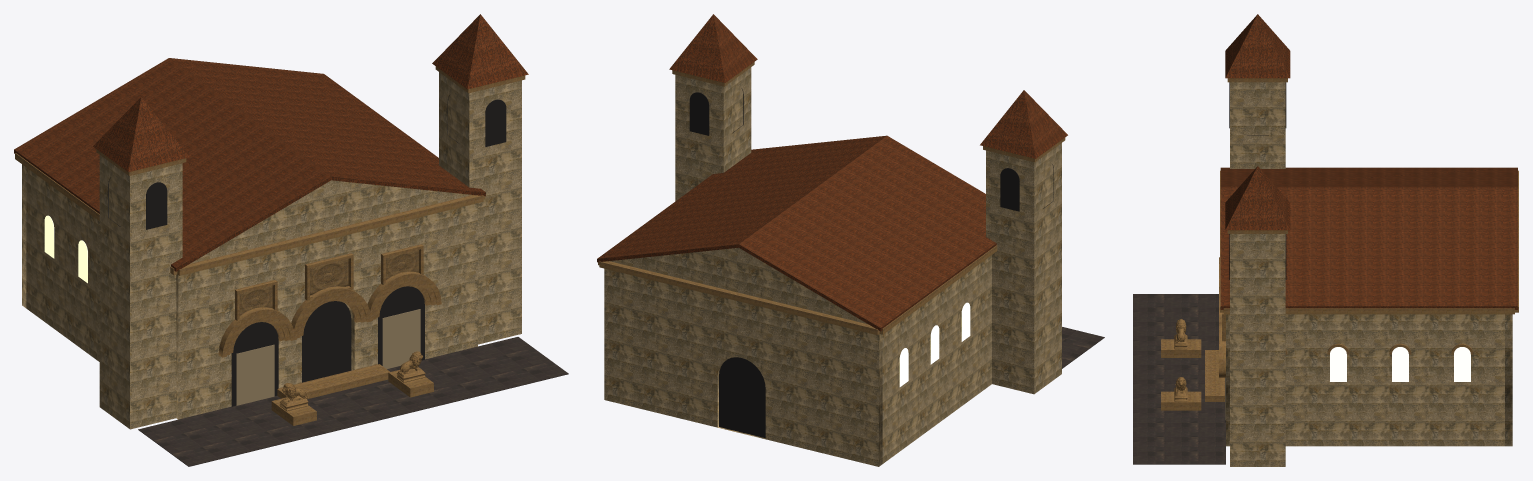
The model's file is three-arches.glb.
3 views of the same model, side by side, from view 1: azimuth 30°, elevation 25°; view 2: azimuth 150°, elevation 25°; view 3: azimuth 270°, elevation 25° (orthographic). The views are drawn at different scales.
Parts seen in each view (by area): view 1: baptist_wall, baptist_roof, baptist_floor, baptist_trim, baptist_shadow, baptist_bronze, merged_baptist_trim, merged_baptist_relief_baptist-tympanum.002, baptist_glass, merged_baptist_relief_baptist-tympanum, merged_baptist_relief_baptist-tympanum.001; view 2: baptist_wall, baptist_roof, baptist_shadow, baptist_trim, baptist_glass, baptist_floor; view 3: baptist_wall, baptist_roof, baptist_floor, baptist_trim, baptist_glass, merged_baptist_trim.
Boxes of the visible parts, x1,y1,x2,y2 form: baptist_wall: (22,72,521,429); baptist_roof: (14,14,528,271); baptist_floor: (138,337,568,466); baptist_trim: (15,66,525,425); baptist_shadow: (108,94,506,406); baptist_bronze: (236,309,420,405); merged_baptist_trim: (279,351,425,411); merged_baptist_relief_baptist-tympanum.002: (310,258,348,295); baptist_glass: (44,215,87,283); merged_baptist_relief_baptist-tympanum: (239,285,272,315); merged_baptist_relief_baptist-tympanum.001: (386,250,418,279); baptist_wall: (604,67,1061,466); baptist_roof: (597,14,1067,331); baptist_shadow: (689,88,1053,438); baptist_trim: (598,62,1065,335); baptist_glass: (899,302,970,386); baptist_floor: (1062,327,1104,368); baptist_wall: (1226,82,1512,466); baptist_roof: (1220,14,1517,309); baptist_floor: (1133,294,1225,464); baptist_trim: (1161,78,1518,410); baptist_glass: (1330,347,1470,381); merged_baptist_trim: (1174,319,1187,401).
Bounding box in the file's own units: 27.4 × 20.62 × 24.9.
Materials: 11 (7 with a texture image).
